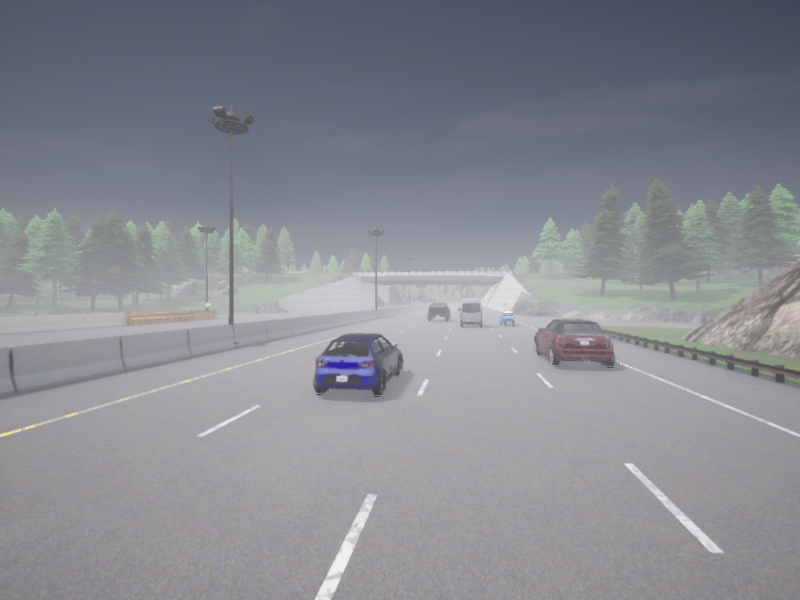vehicle: (313, 333, 402, 396), (534, 318, 614, 367), (459, 299, 482, 326), (427, 303, 450, 321), (499, 311, 514, 325)
